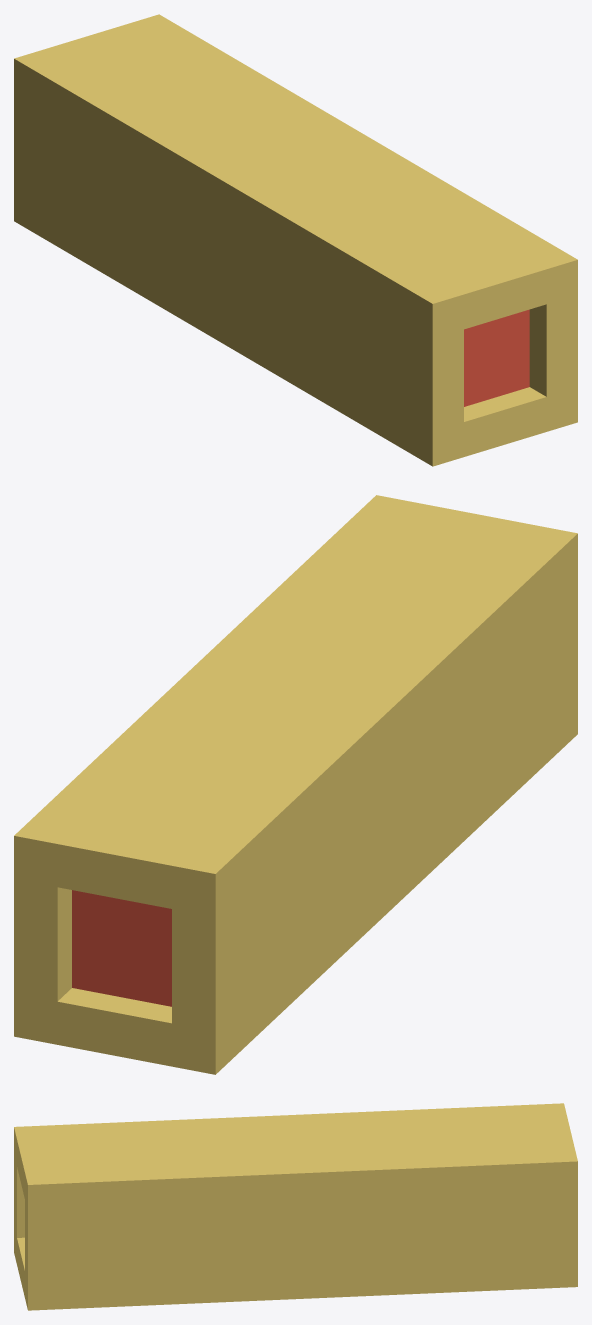
Rendered from Churro.glb.
3 renders of one model, top to bottom at view 1: azimuth 30°, elevation 25°; view 2: azimuth 150°, elevation 25°; view 3: azimuth 270°, elevation 25°, orthographic. The views are drawn at different scales.
Visible parts, largest first — view 1: Churro.003; view 2: Churro.003; view 3: Churro.003.
Part boxes in pixels (x1,y1,x2,y2): Churro.003: (14, 14, 577, 466); Churro.003: (14, 495, 577, 1074); Churro.003: (14, 1103, 577, 1310).
Size of the model in its own units: 1.63 by 1.17 by 4.76.
